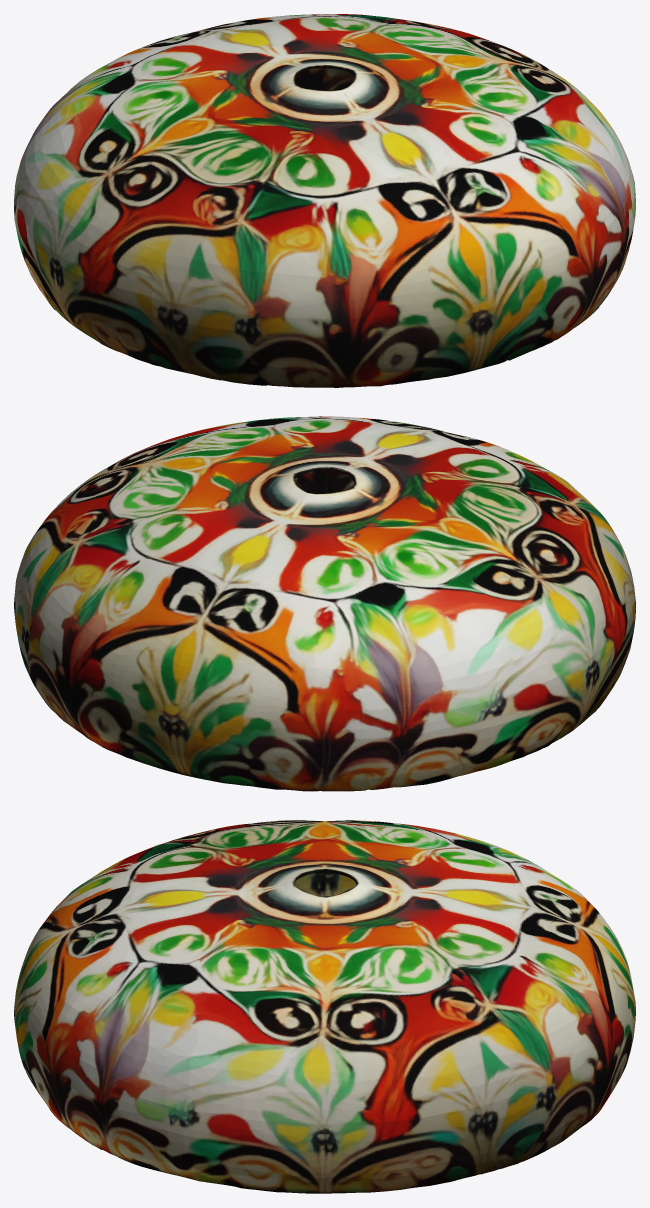
The model's file is porcelain-collector’s-item-art-deco.jpeg.glb.
3 renders of one model, top to bottom at view 1: azimuth 30°, elevation 25°; view 2: azimuth 150°, elevation 25°; view 3: azimuth 270°, elevation 25°, orthographic.
Visible parts, largest first — view 1: world; view 2: world; view 3: world.
Boxes of the visible parts, <box> form: world: <box>14,14,635,387</box>; world: <box>14,416,635,791</box>; world: <box>14,820,635,1193</box>.
Size of the model in its own units: 0.9954 by 0.336 by 0.9966.
Materials: 1 (1 with a texture image).
